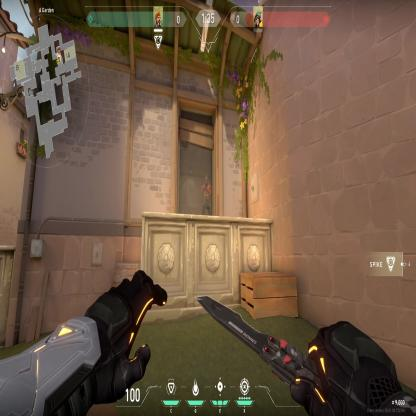enemy: (200, 173, 213, 215)
